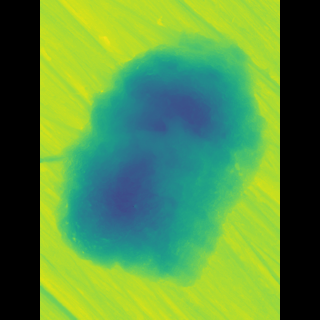Loch: (79, 16, 241, 285)
